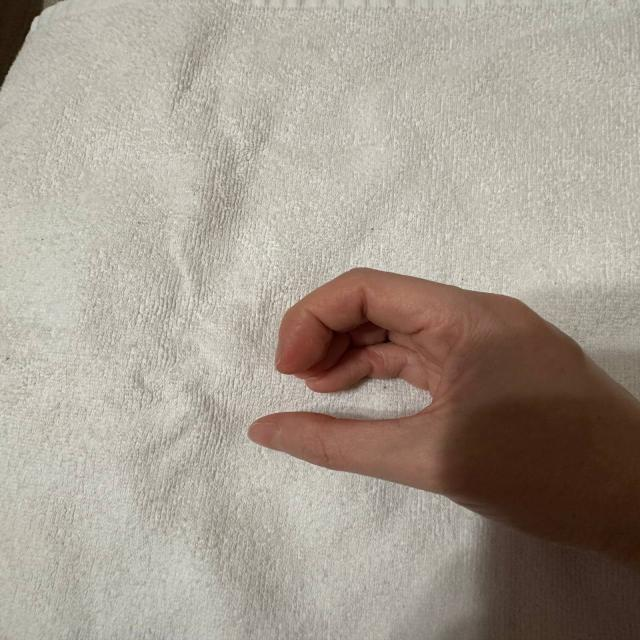s: (198, 257, 626, 525)
